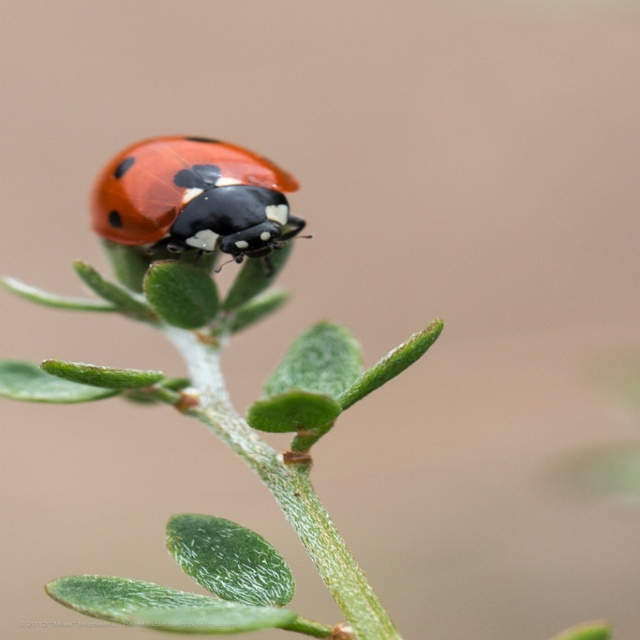Ladybug: (82, 125, 297, 267)
